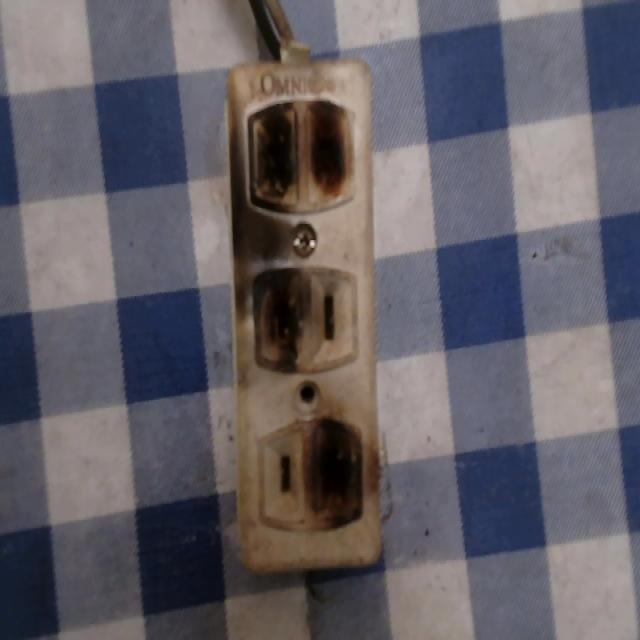-: (231, 96, 362, 221), (245, 259, 309, 372), (309, 413, 364, 536)
